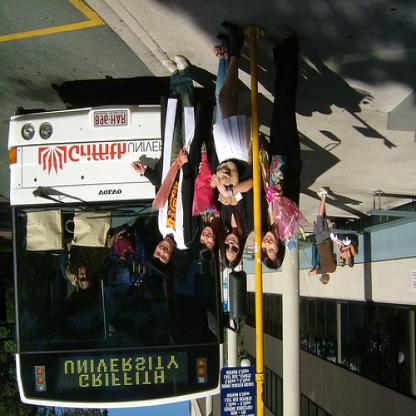bus: (8, 103, 226, 410)
person: (132, 54, 197, 272), (258, 31, 303, 271), (212, 25, 255, 273), (198, 44, 230, 264), (65, 229, 126, 295), (307, 186, 340, 287), (332, 222, 356, 268), (330, 222, 349, 269)
